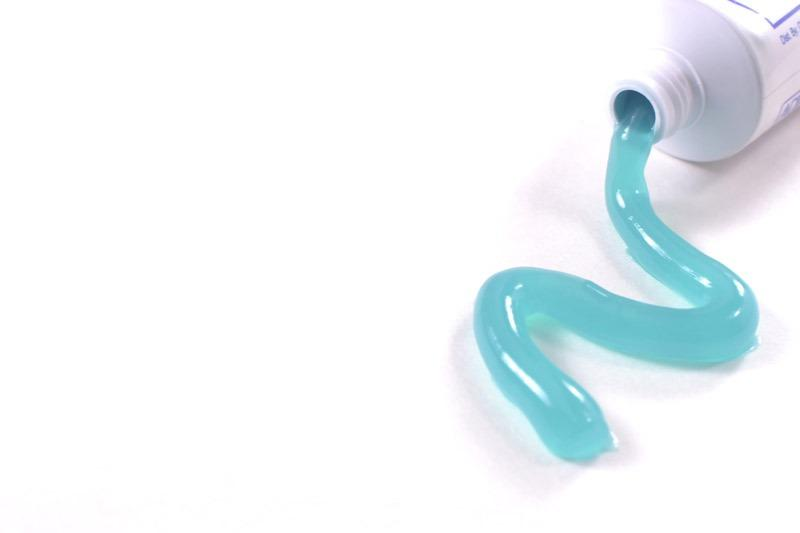toothpaste: (598, 0, 800, 186)
